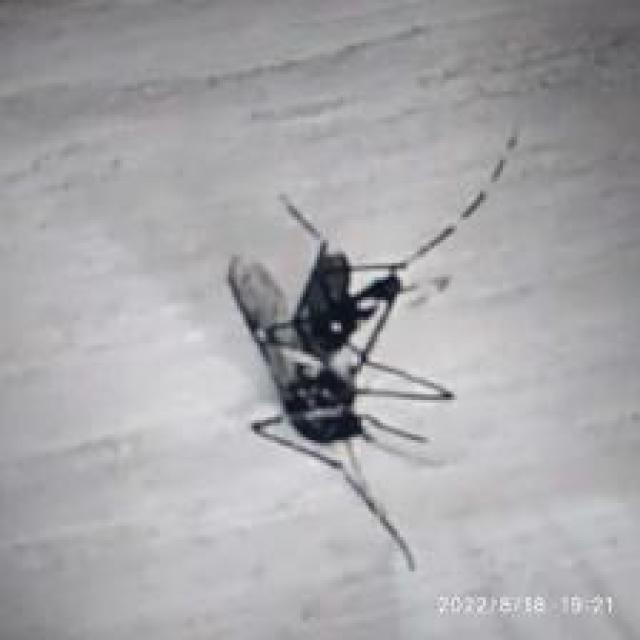Aedes albopictus: (224, 126, 522, 571)
